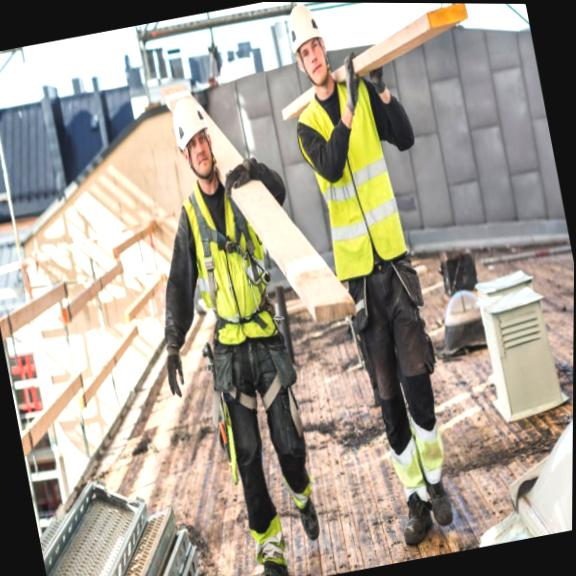safety_vest: (290, 68, 424, 281), (176, 179, 289, 366)
